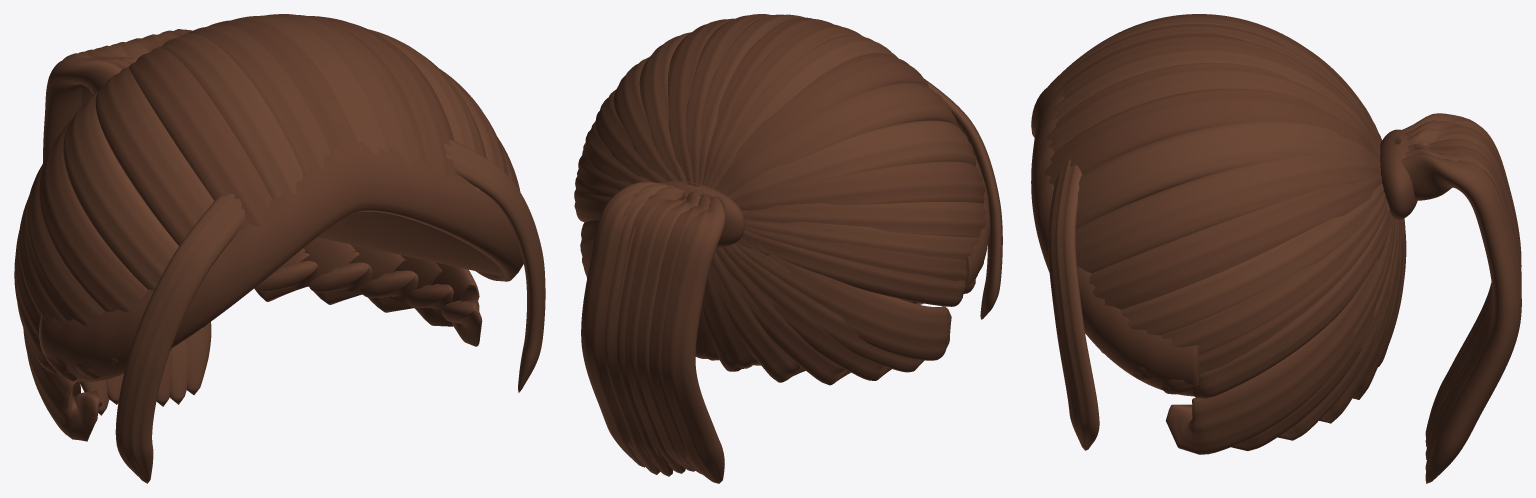
The model's file is hair-ponytail-grooved.glb.
The picture shows the model from 3 angles, left to right: view 1: azimuth 30°, elevation 25°; view 2: azimuth 150°, elevation 25°; view 3: azimuth 270°, elevation 25°; orthographic projection. The views are drawn at different scales.
Parts seen in each view (by area): view 1: Hair / Pony continuous front edge, Hair / Pony front -1, Hair / Pony swept 7, Hair / Pony swept 5, Hair / Pony swept 6, Hair / Pony swept 8, Hair / Pony swept 4, Hair / Pony front 1, Hair / Pony swept 9, Recessed roots, Hair / Pony swept 12, Hair / Pony swept 11 (+19 smaller); view 2: Hair / Pony tail 0, Hair / Pony nape 12, Hair / Pony swept 5, Hair / Pony swept 6, Hair / Pony swept 4, Hair / Pony tail 6, Hair / Pony swept 7, Hair / Pony swept 3, Hair / Pony swept 0, Hair / Pony swept 8, Hair / Pony swept 2, Hair / Pony tail 5 (+26 smaller); view 3: Hair / Pony swept 15, Hair / Pony swept 14, Hair / Pony swept 16, Hair / Pony tail 6, Hair / Pony nape 0, Hair / Pony swept 13, Hair / Pony swept 17, Hair / Pony continuous front edge, Hair / Pony front 1, Hair / Pony swept 12, Hair / Pony swept 18, Hair / Pony swept 20 (+17 smaller).
Part boxes in pixels (x1,y1,x2,y2): Hair / Pony continuous front edge: (39,141,523,381); Hair / Pony front -1: (115,193,245,483); Hair / Pony swept 7: (128,48,271,228); Hair / Pony swept 5: (63,91,205,327); Hair / Pony swept 6: (95,67,229,257); Hair / Pony swept 8: (158,33,302,198); Hair / Pony swept 4: (39,121,171,350); Hair / Pony front 1: (444,139,545,392); Hair / Pony swept 9: (187,24,329,171); Recessed roots: (317,211,503,276); Hair / Pony swept 12: (265,14,426,165); Hair / Pony swept 11: (234,15,390,155); Hair / Pony tail 0: (661,196,725,483); Hair / Pony nape 12: (734,243,951,360); Hair / Pony swept 5: (728,120,976,202); Hair / Pony swept 6: (720,82,957,196); Hair / Pony swept 4: (735,161,985,211); Hair / Pony tail 6: (581,181,666,467); Hair / Pony swept 7: (714,53,928,191); Hair / Pony swept 3: (742,202,986,237); Hair / Pony swept 0: (737,219,965,306); Hair / Pony swept 8: (709,35,898,188); Hair / Pony swept 2: (741,210,983,269); Hair / Pony tail 5: (604,184,674,474); Hair / Pony swept 15: (1075,154,1380,272); Hair / Pony swept 14: (1076,121,1380,228); Hair / Pony swept 16: (1089,173,1382,309); Hair / Pony tail 6: (1401,154,1521,483); Hair / Pony nape 0: (1165,217,1392,454); Hair / Pony swept 13: (1044,88,1380,185); Hair / Pony swept 17: (1100,183,1383,355); Hair / Pony continuous front edge: (1031,83,1198,396); Hair / Pony front 1: (1048,160,1099,450); Hair / Pony swept 12: (1046,62,1380,156); Hair / Pony swept 18: (1132,192,1386,380); Hair / Pony swept 20: (1192,202,1392,398).
Size of the model in its own units: 1.05 by 1.01 by 1.05.
